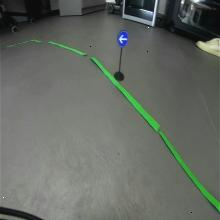left: (116, 30, 129, 48)
